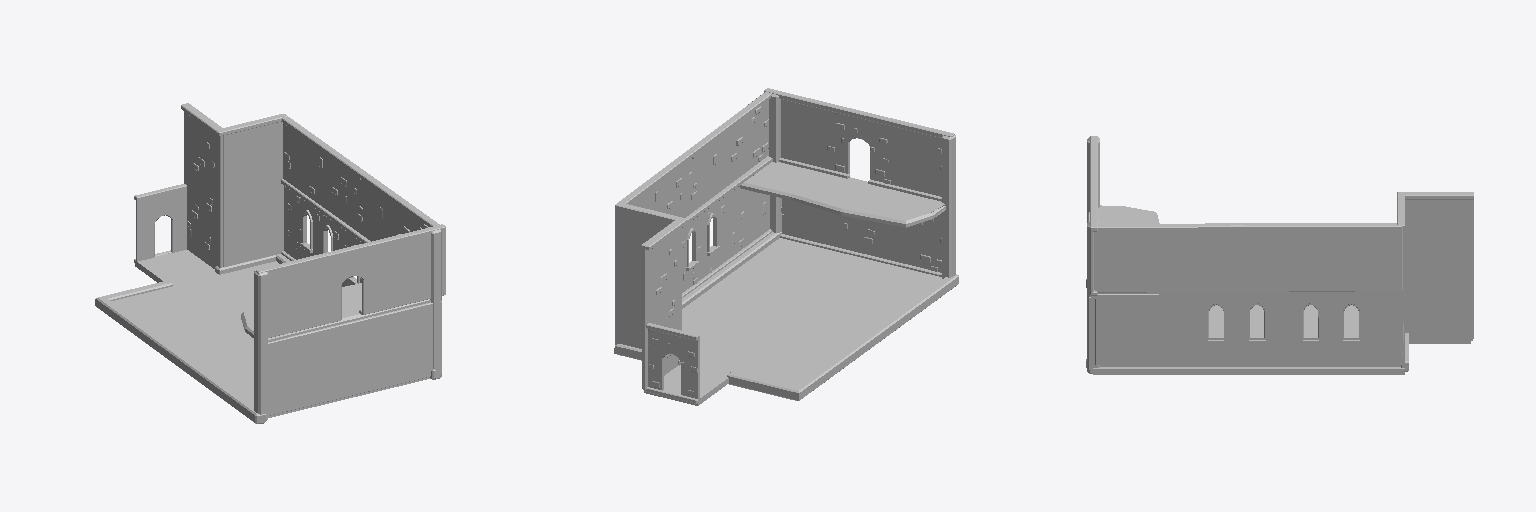
Rendered from hallWalls.obj.
3 views of the same model, side by side, from view 1: azimuth 30°, elevation 25°; view 2: azimuth 150°, elevation 25°; view 3: azimuth 270°, elevation 25° (orthographic).
Visible parts, largest first — view 1: hallWall; view 2: hallWall; view 3: hallWall.
Boxes of the visible parts, x1=… form: hallWall: x1=95, y1=103, x2=445, y2=423; hallWall: x1=614, y1=88, x2=958, y2=405; hallWall: x1=1086, y1=136, x2=1473, y2=374.
Size of the model in its own units: 64.4 by 48.56 by 113.